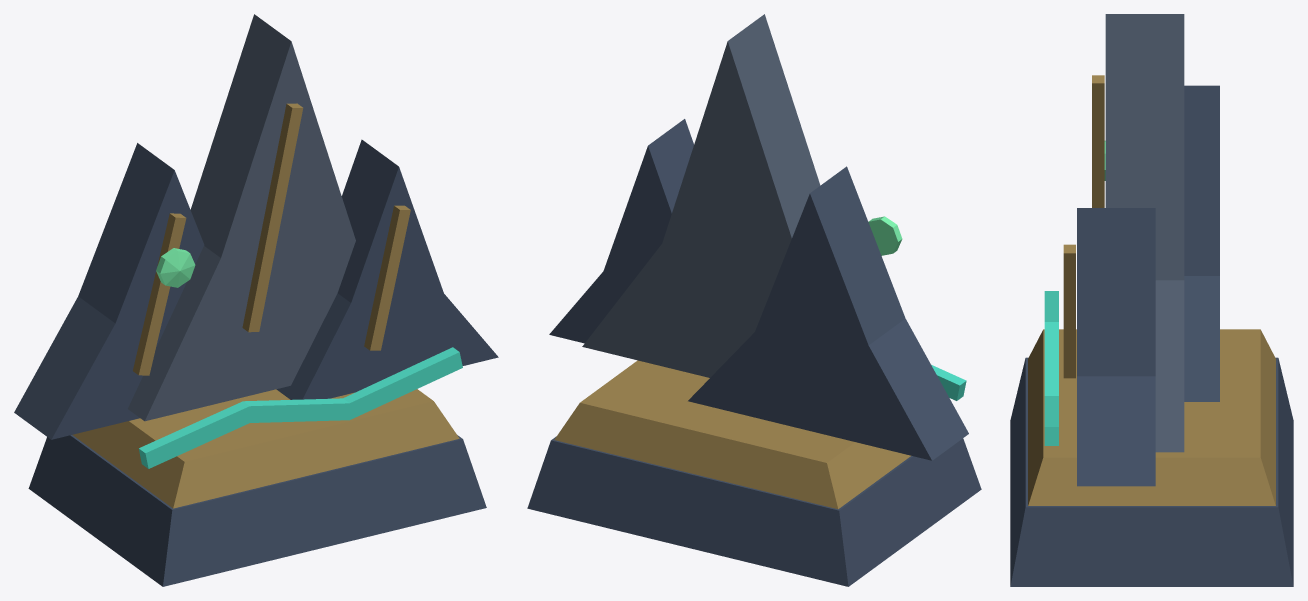
File: amber.obj
The picture shows the model from 3 angles, left to right: view 1: azimuth 30°, elevation 25°; view 2: azimuth 150°, elevation 25°; view 3: azimuth 270°, elevation 25°; orthographic projection. The views are drawn at different scales.
Parts seen in each view (by area): view 1: mountain_base_lower, mountain_peak_1, mountain_base_upper, mountain_peak_2, mountain_peak_0_edge, mountain_peak_1_edge, mountain_peak_0, mountain_peak_2_edge, mountain_water, mountain_ridge_1, mountain_water_edge, mountain_ridge_1_edge (+5 smaller); view 2: mountain_base_lower, mountain_peak_1, mountain_peak_0, mountain_base_upper, mountain_peak_0_edge, mountain_peak_1_edge, mountain_peak_2, mountain_peak_2_edge, mountain_moon; view 3: mountain_base_lower, mountain_peak_1_edge, mountain_base_upper, mountain_peak_2_edge, mountain_peak_0_edge, mountain_water_edge, mountain_ridge_2_edge, mountain_ridge_1_edge.
Boxes of the visible parts, x1=… form: mountain_base_lower: x1=28, y1=435, x2=486, y2=586; mountain_peak_1: x1=145, y1=41, x2=355, y2=421; mountain_base_upper: x1=72, y1=389, x2=459, y2=508; mountain_peak_2: x1=302, y1=167, x2=498, y2=399; mountain_peak_0_edge: x1=14, y1=143, x2=174, y2=439; mountain_peak_1_edge: x1=128, y1=14, x2=291, y2=420; mountain_peak_0: x1=51, y1=170, x2=204, y2=439; mountain_peak_2_edge: x1=276, y1=139, x2=398, y2=399; mountain_water: x1=145, y1=352, x2=462, y2=468; mountain_ridge_1: x1=248, y1=108, x2=303, y2=332; mountain_water_edge: x1=138, y1=347, x2=459, y2=468; mountain_ridge_1_edge: x1=242, y1=103, x2=302, y2=331; mountain_base_lower: x1=527, y1=436, x2=981, y2=586; mountain_peak_1: x1=582, y1=41, x2=791, y2=377; mountain_peak_0: x1=688, y1=194, x2=931, y2=460; mountain_base_upper: x1=554, y1=360, x2=910, y2=509; mountain_peak_0_edge: x1=810, y1=166, x2=968, y2=460; mountain_peak_1_edge: x1=728, y1=14, x2=820, y2=237; mountain_peak_2: x1=549, y1=146, x2=671, y2=343; mountain_peak_2_edge: x1=648, y1=119, x2=693, y2=213; mountain_moon: x1=868, y1=216, x2=902, y2=255; mountain_base_lower: x1=1010, y1=357, x2=1293, y2=586; mountain_peak_1_edge: x1=1105, y1=14, x2=1184, y2=452; mountain_base_upper: x1=1028, y1=329, x2=1275, y2=505; mountain_peak_2_edge: x1=1077, y1=208, x2=1155, y2=486; mountain_peak_0_edge: x1=1184, y1=85, x2=1219, y2=401; mountain_water_edge: x1=1044, y1=291, x2=1058, y2=445; mountain_ridge_2_edge: x1=1063, y1=244, x2=1075, y2=378; mountain_ridge_1_edge: x1=1092, y1=75, x2=1104, y2=207.
Bounding box in the file's own units: 1.42 × 1.53 × 0.792.
